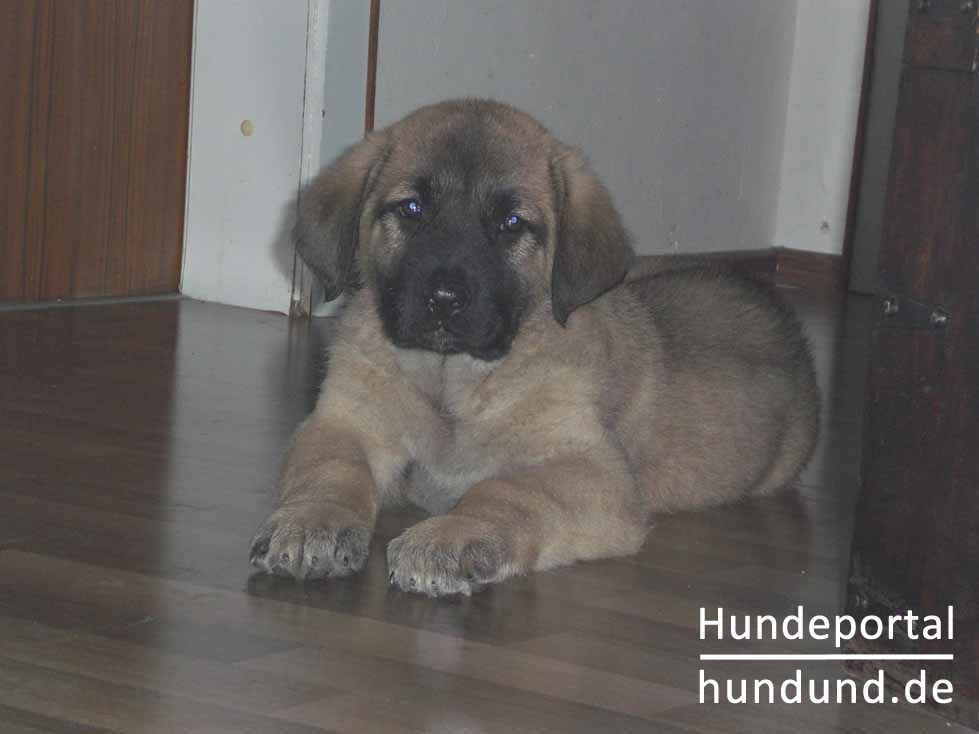kangal: (246, 96, 821, 597)
